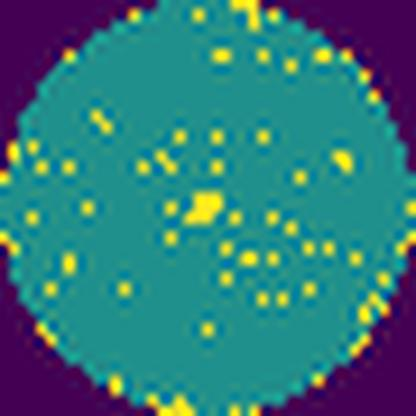Center: (176, 187, 229, 231)
